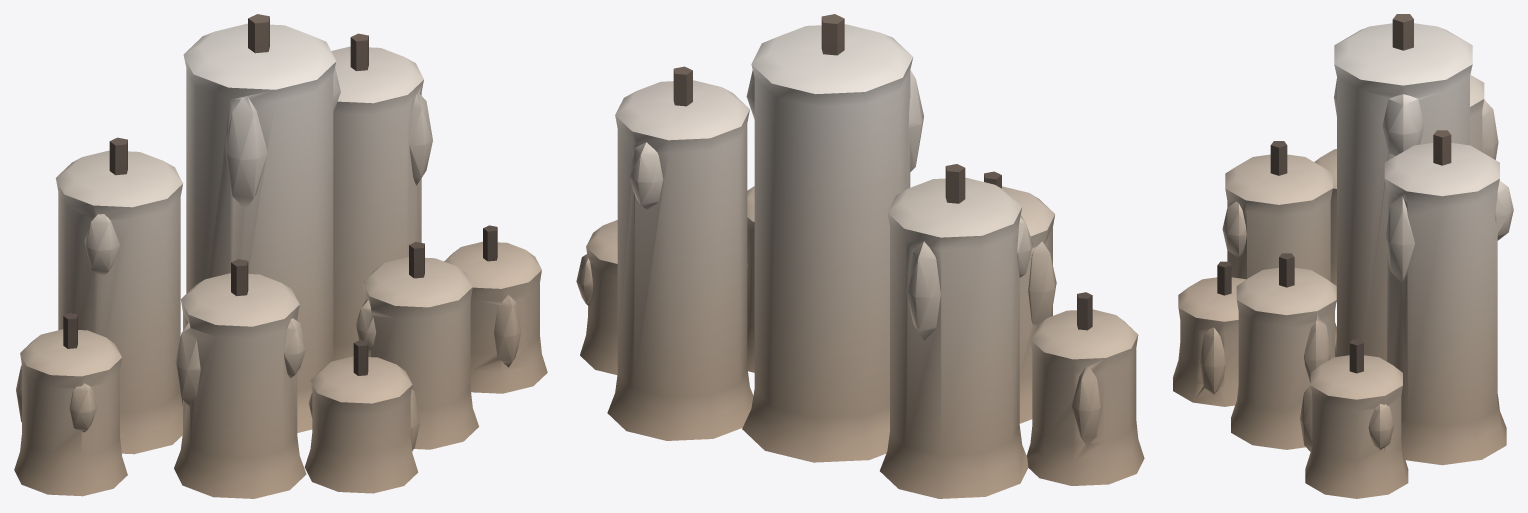
Rendered from candle_pile.glb.
3 views of the same model, side by side, from view 1: azimuth 30°, elevation 25°; view 2: azimuth 150°, elevation 25°; view 3: azimuth 270°, elevation 25° (orthographic). The views are drawn at different scales.
Visible parts, largest first — view 1: candle_pile; view 2: candle_pile; view 3: candle_pile.
Part boxes in pixels (box(x1,y1,x2,y2)): candle_pile: box(14, 14, 547, 498); candle_pile: box(576, 14, 1144, 498); candle_pile: box(1173, 14, 1513, 498).
Bounding box in the file's own units: 1.46 × 1.03 × 0.8764.
1 material, 1 textured.
